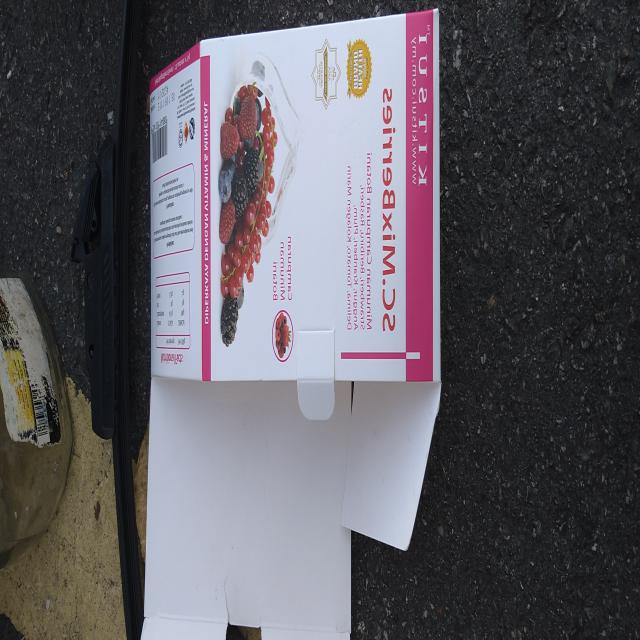cardboard: (145, 18, 443, 640)
